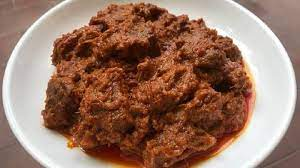rendang: (18, 3, 259, 168)
